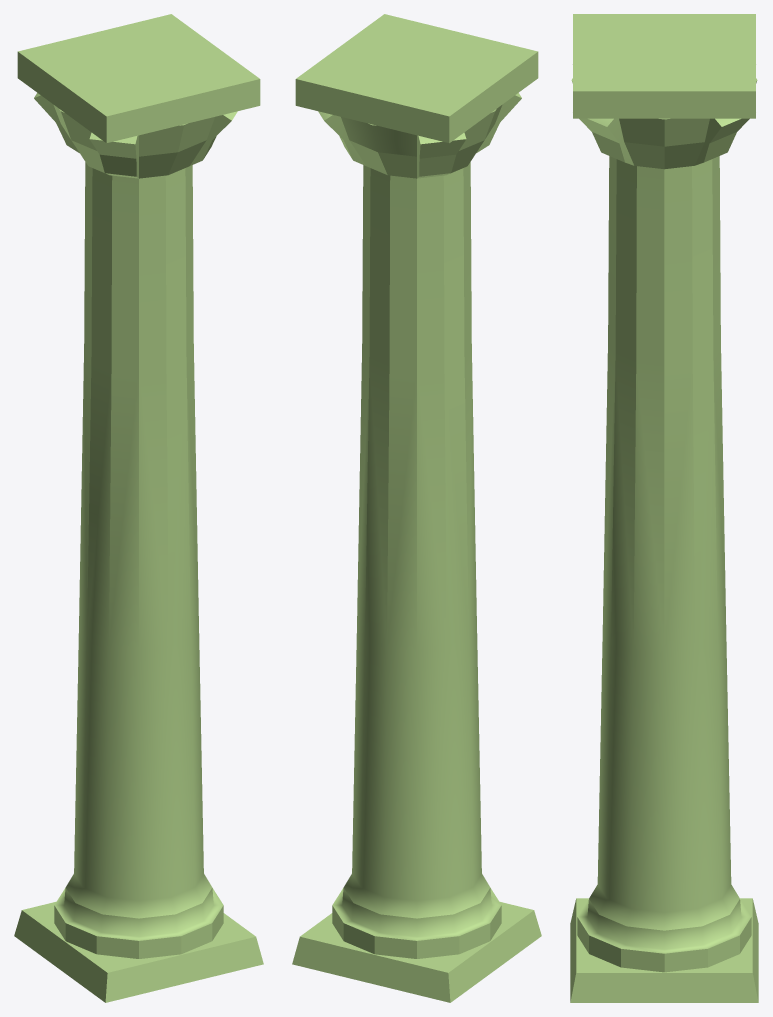
Rendered from Roman_Column_001.FBX.
3 views of the same model, side by side, from view 1: azimuth 30°, elevation 25°; view 2: azimuth 150°, elevation 25°; view 3: azimuth 270°, elevation 25° (orthographic). The views are drawn at different scales.
Visible parts, largest first — view 1: Roman_Column_001; view 2: Roman_Column_001; view 3: Roman_Column_001.
Boxes of the visible parts, x1,y1,x2,y2 form: Roman_Column_001: [14, 14, 263, 1002]; Roman_Column_001: [292, 14, 541, 1002]; Roman_Column_001: [570, 14, 758, 1002].
Size of the model in its own units: 92.7 by 92.71 by 495.
